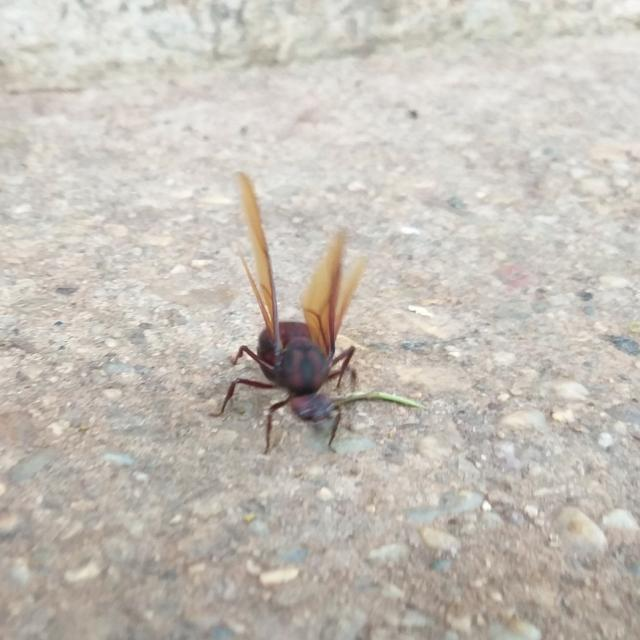Alive-Female-Alate: (208, 170, 367, 456)
